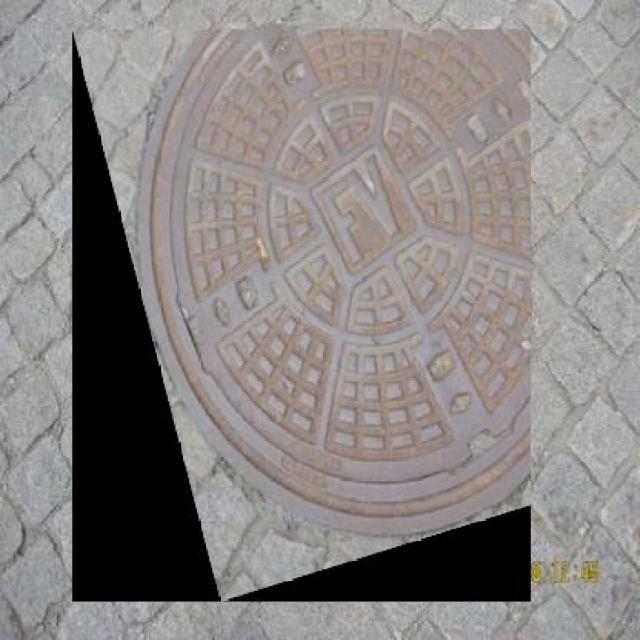Manhole: (72, 29, 531, 602)
